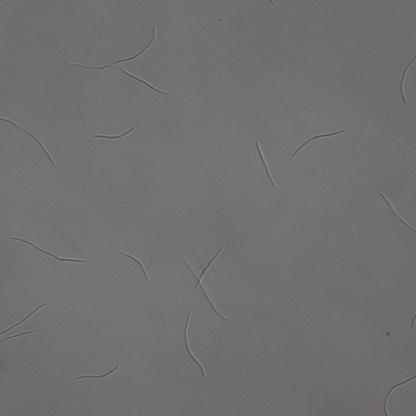Sensitive: (186, 246, 226, 321), (2, 116, 55, 163), (13, 235, 86, 263), (115, 25, 157, 62), (380, 192, 416, 234), (292, 129, 346, 156), (182, 310, 203, 378), (1, 304, 46, 335), (382, 374, 416, 415), (121, 68, 165, 94), (118, 250, 149, 281), (256, 141, 275, 189), (399, 58, 416, 103), (79, 363, 118, 380), (95, 126, 133, 140), (1, 330, 38, 344)
